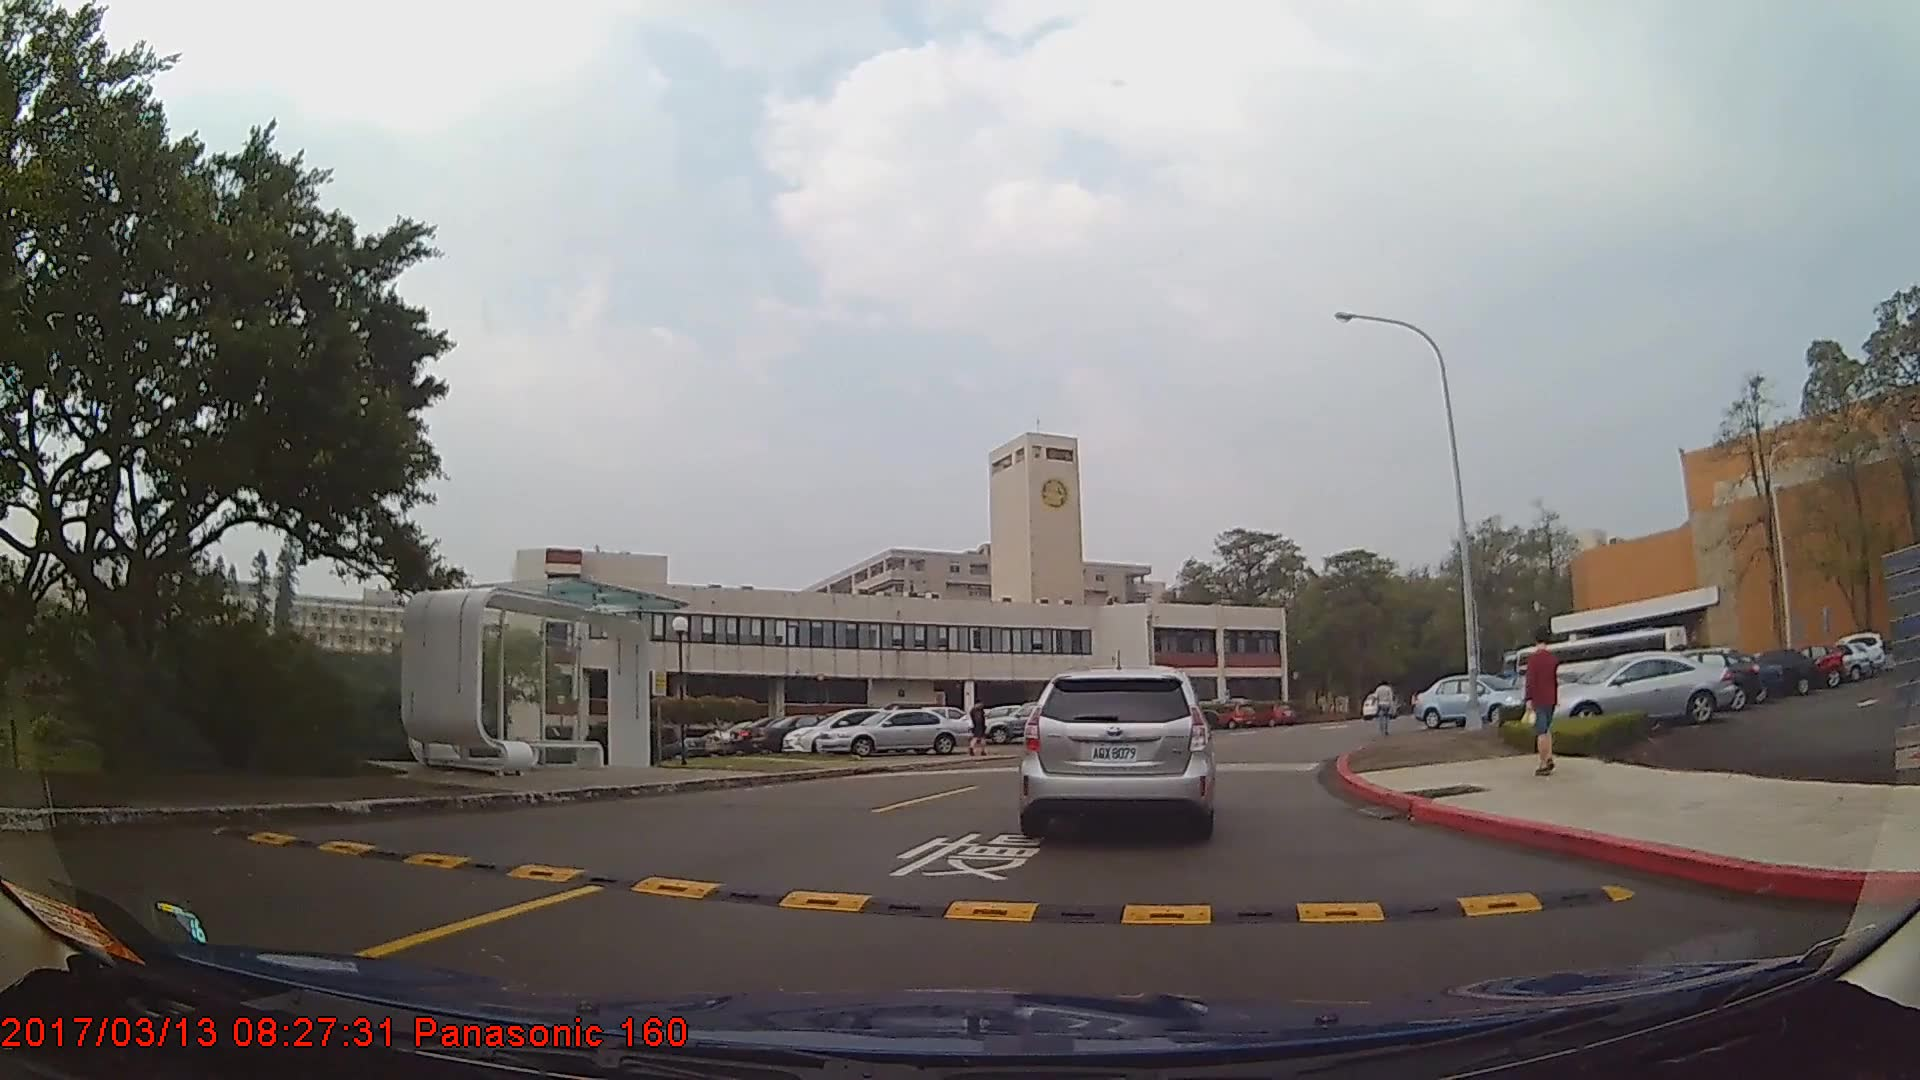pedestrian: (1517, 624, 1564, 773), (1372, 675, 1396, 737), (969, 699, 989, 756)
vehicle: (1022, 666, 1213, 839), (1539, 649, 1731, 726), (815, 705, 972, 756), (774, 702, 918, 749), (1408, 673, 1529, 726), (1674, 650, 1783, 701), (1714, 645, 1818, 696), (975, 698, 1082, 741), (749, 711, 852, 751)
